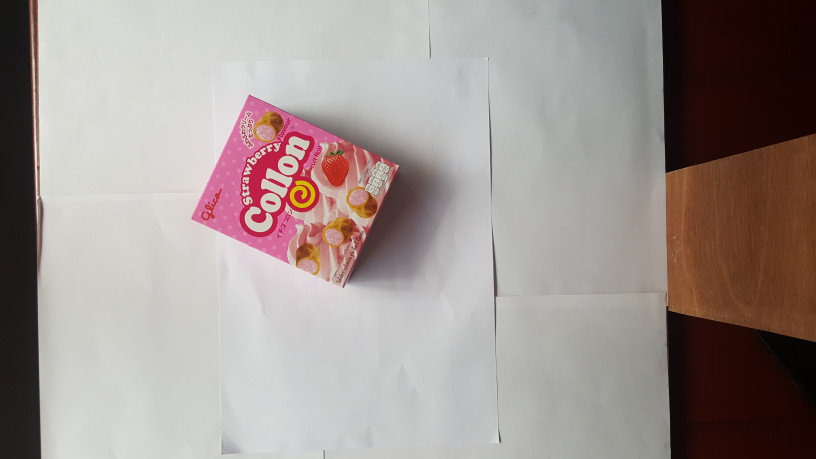collon-strawberry: (190, 95, 402, 288)
